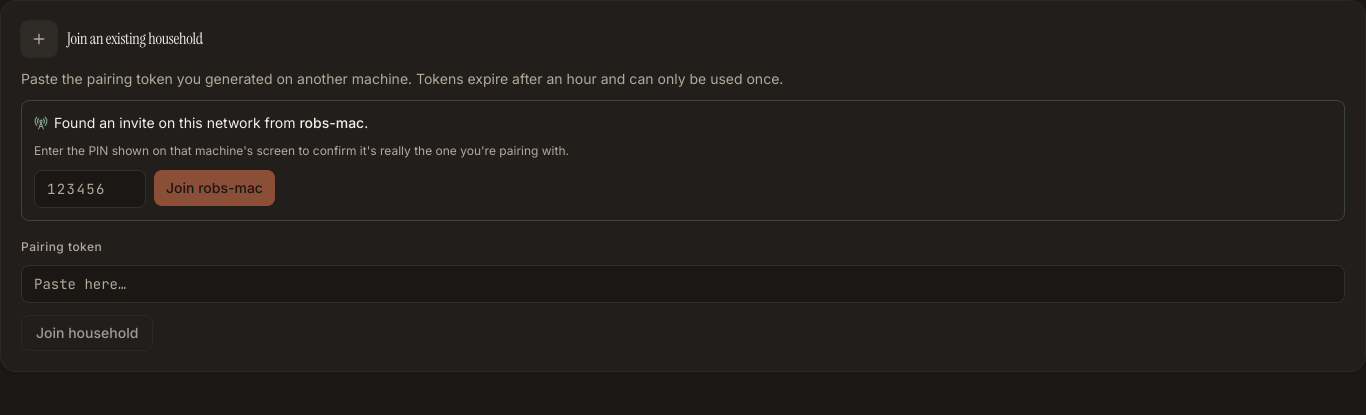
Test: JoinExistingPanel: PIN reveal flow › shows an error and does not pair when the PIN is wrong
This screenshot has width=1366, height=415.
Expected: the text "Found an invite on this network from robs-mac." is shown, [54, 113, 368, 133]
Type "000000" into the field named "confirmation pin" at (90, 189), box [34, 170, 146, 208]
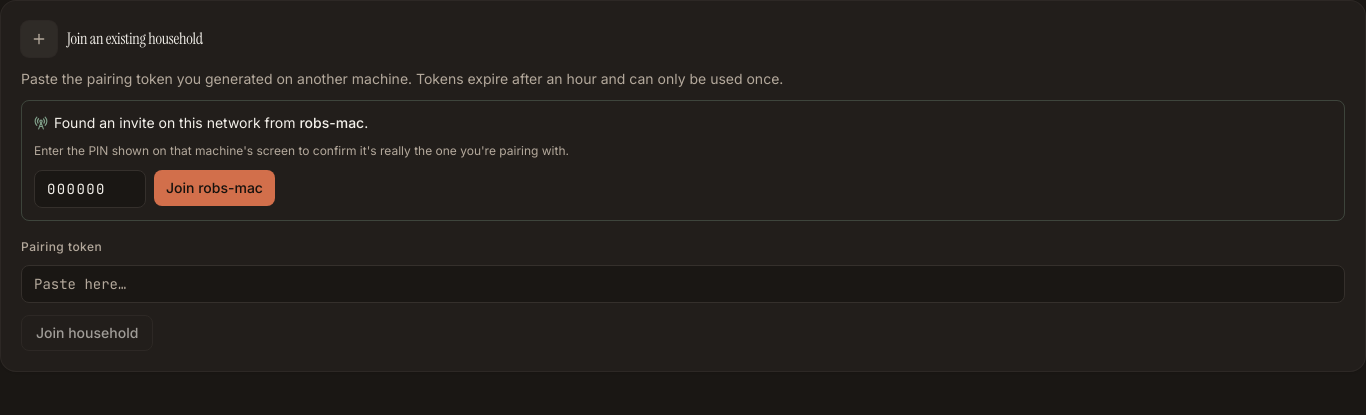
Click the button "Join robs-mac" at (214, 188), box [154, 170, 275, 206]
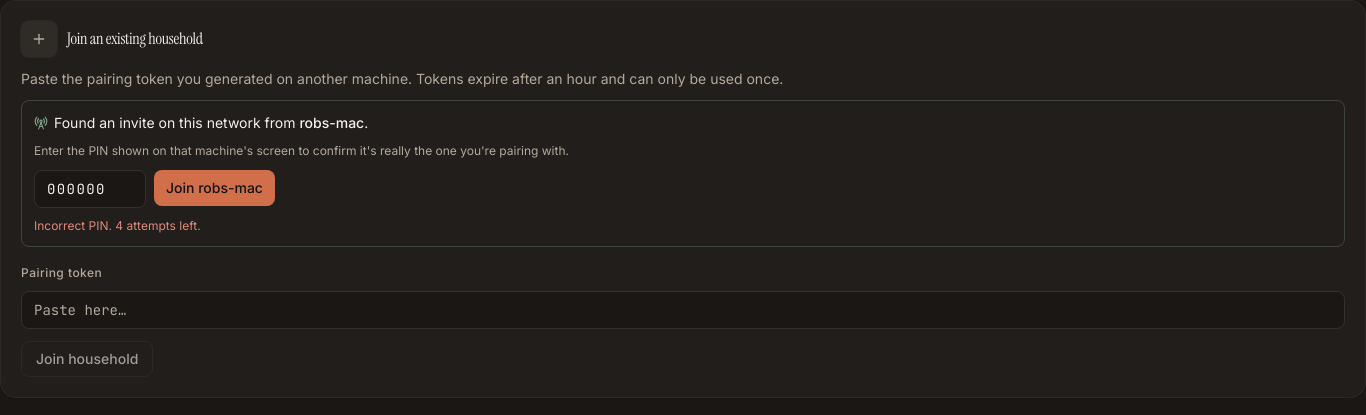
Now the text "Incorrect PIN. 4 attempts left." is shown, box [34, 218, 201, 233]
